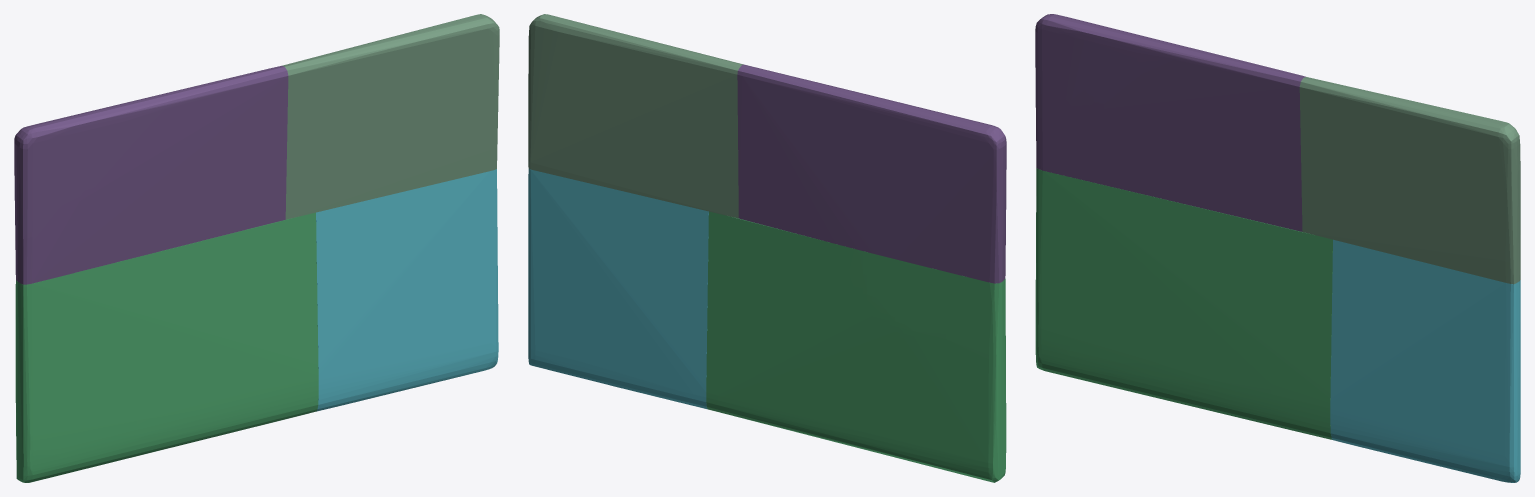
Rendered from coacd_collision.obj.
3 views of the same model, side by side, from view 1: azimuth 30°, elevation 25°; view 2: azimuth 150°, elevation 25°; view 3: azimuth 330°, elevation 25° (orthographic).
Visible parts, largest first — view 1: geometry_3, geometry_1, geometry_2, geometry_0; view 2: geometry_3, geometry_1, geometry_2, geometry_0; view 3: geometry_3, geometry_1, geometry_2, geometry_0.
Boxes of the visible parts, x1,y1,x2,y2 form: geometry_3: (15, 212, 318, 482); geometry_1: (14, 65, 288, 284); geometry_2: (316, 169, 498, 411); geometry_0: (282, 14, 499, 219); geometry_3: (706, 211, 1006, 482); geometry_1: (737, 64, 1006, 283); geometry_2: (528, 168, 708, 409); geometry_0: (528, 14, 743, 218); geometry_3: (1035, 168, 1332, 439); geometry_1: (1035, 14, 1305, 231); geometry_2: (1330, 239, 1520, 482); geometry_0: (1299, 77, 1520, 284).
Bounding box in the file's own units: 209 × 149 × 9.92.
